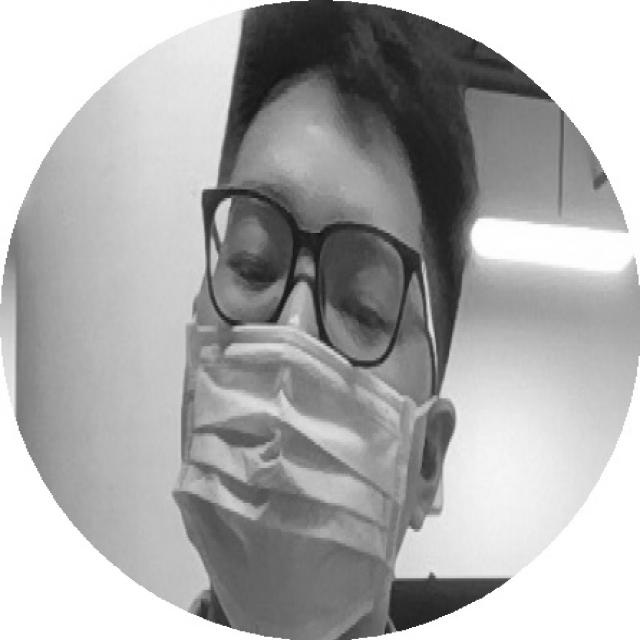fake: (175, 333, 427, 640)
real: (222, 227, 415, 342)
